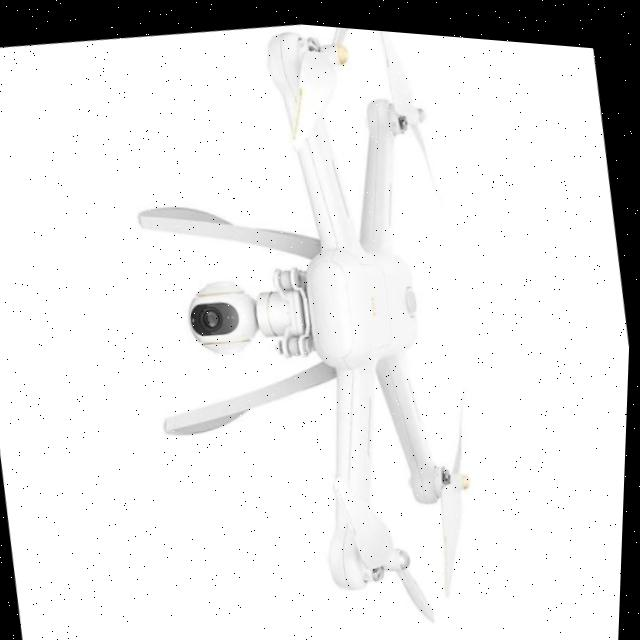drones: (42, 4, 572, 640)
